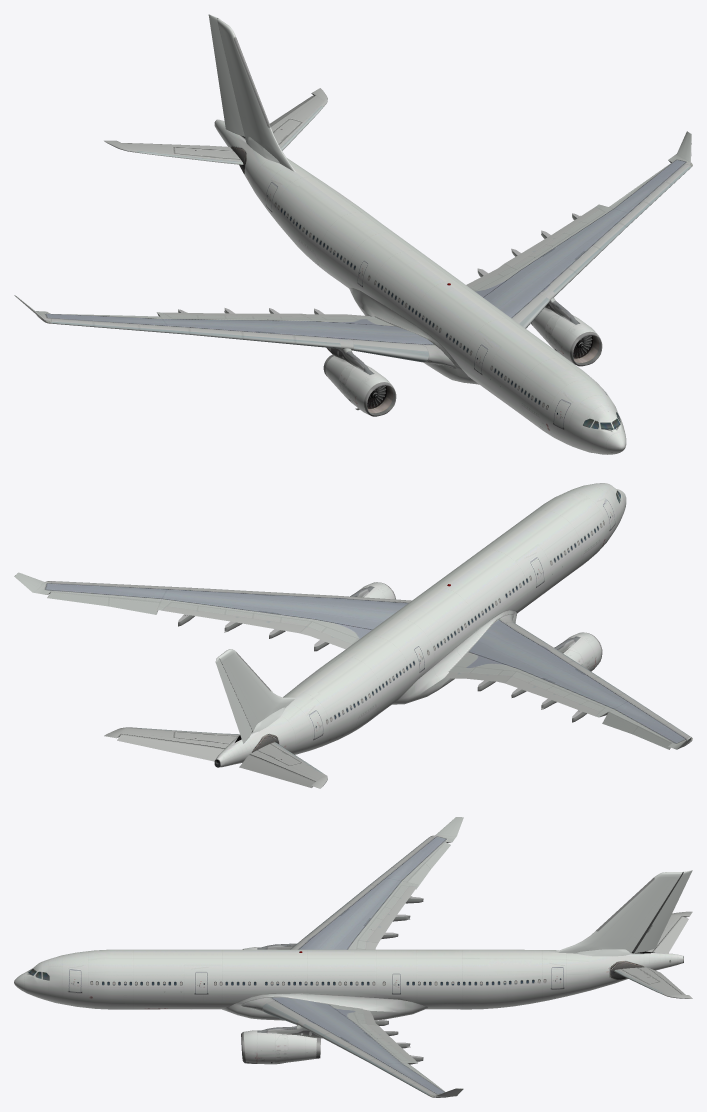
The model's file is airbus_a330-300.glb.
The picture shows the model from 3 angles, top to bottom: view 1: azimuth 30°, elevation 25°; view 2: azimuth 150°, elevation 25°; view 3: azimuth 270°, elevation 25°; orthographic projection. The views are drawn at different scales.
Visible parts, largest first — view 1: Object_9, Object_13, Object_15, Object_19, Object_17; view 2: Object_9, Object_13, Object_15, Object_17, Object_19; view 3: Object_9, Object_15, Object_13, Object_17, Object_19.
Boxes of the visible parts, box(x1,y1,x2,y2) form: Object_9: box(104, 14, 626, 454); Object_13: box(470, 131, 692, 318); Object_15: box(14, 295, 456, 368); Object_19: box(51, 319, 340, 348); Object_17: box(547, 164, 691, 295); Object_9: box(47, 483, 671, 788); Object_13: box(14, 572, 409, 644); Object_15: box(449, 614, 692, 749); Object_17: box(51, 581, 339, 597); Object_19: box(547, 647, 690, 737); Object_9: box(14, 842, 692, 1091); Object_15: box(297, 817, 463, 949); Object_13: box(241, 997, 463, 1097); Object_17: box(302, 1022, 433, 1095); Object_19: box(303, 837, 433, 938).
Bounding box in the file's own units: 60.29 × 15.41 × 63.69.
Materials: 2 (2 with a texture image).
